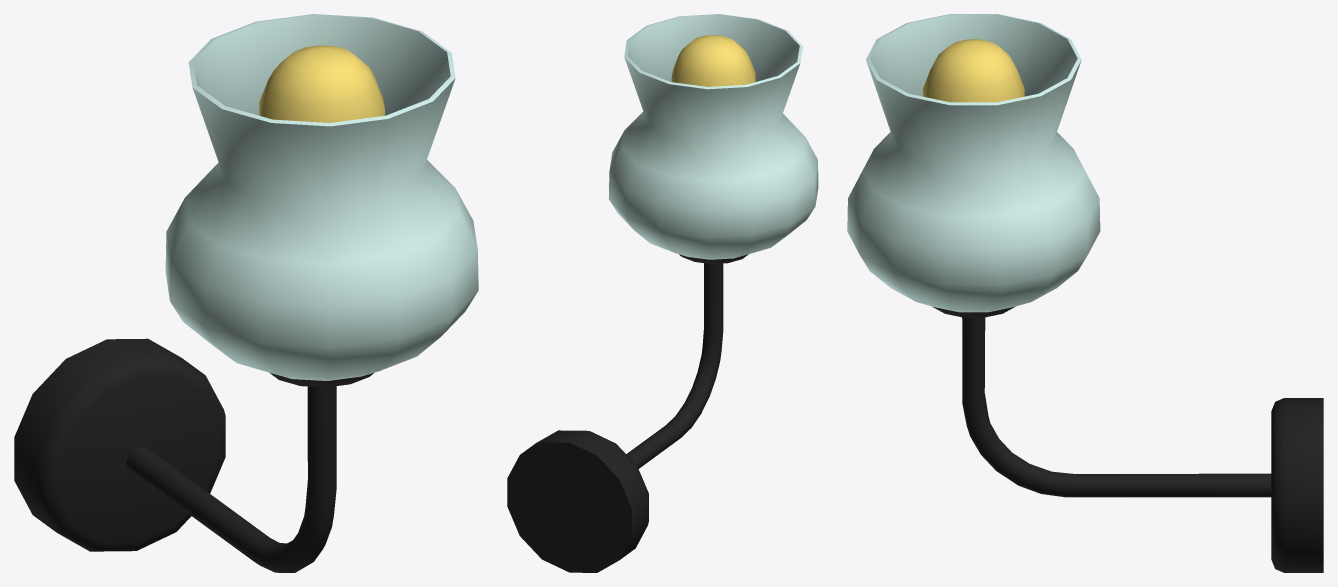
Rendered from Sconce-1.fbx.
3 views of the same model, side by side, from view 1: azimuth 30°, elevation 25°; view 2: azimuth 150°, elevation 25°; view 3: azimuth 270°, elevation 25° (orthographic). The views are drawn at different scales.
Visible parts, largest first — view 1: Sconce-1; view 2: Sconce-1; view 3: Sconce-1.
Part boxes in pixels (bbox=[...]): Sconce-1: bbox=[14, 14, 478, 572]; Sconce-1: bbox=[507, 14, 818, 572]; Sconce-1: bbox=[847, 14, 1323, 572].
Bounding box in the file's own units: 0.1453 × 0.3281 × 0.2734.
